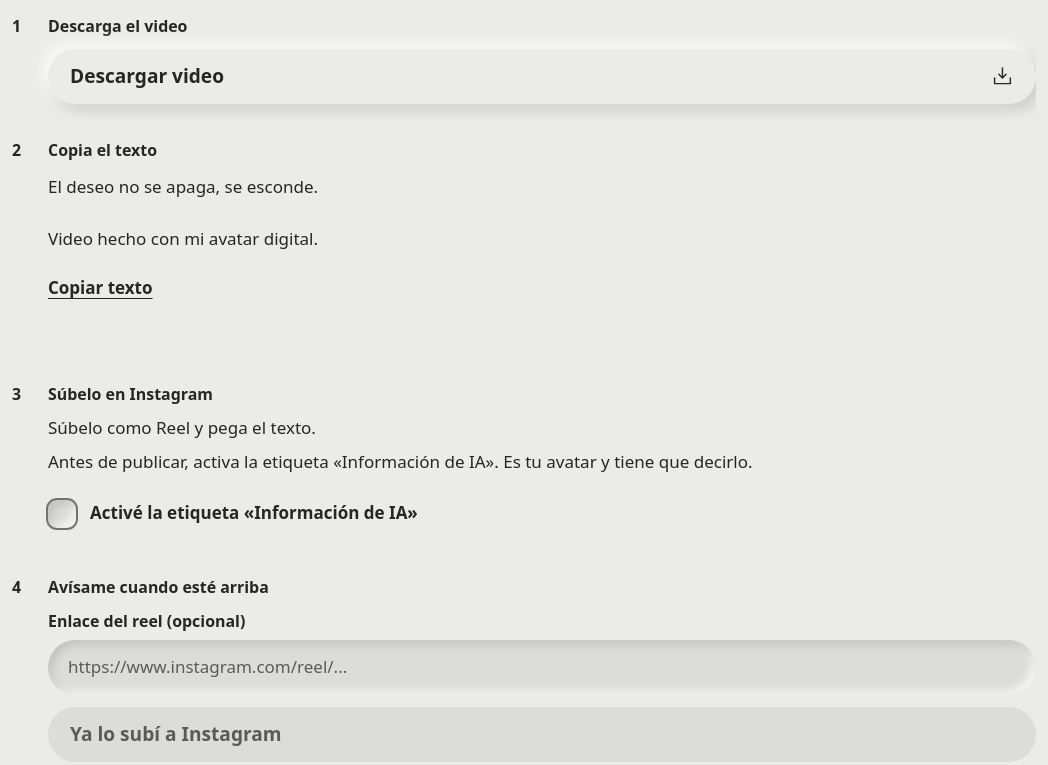
Scenario: SubirAMano › says what went wrong when the download link cannot be made
Click the button "Descargar video". click: [147, 76]
box: [48,49,1036,104]
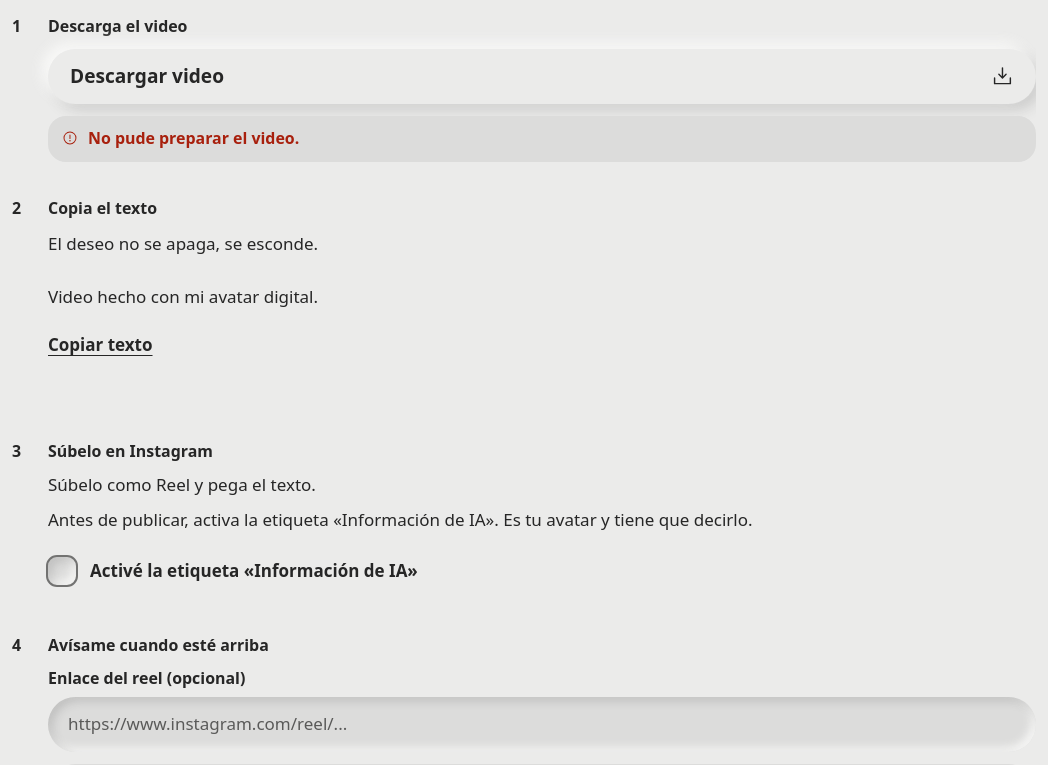
Now the text "No pude preparar el video." is shown, box [88,128,299,150]
